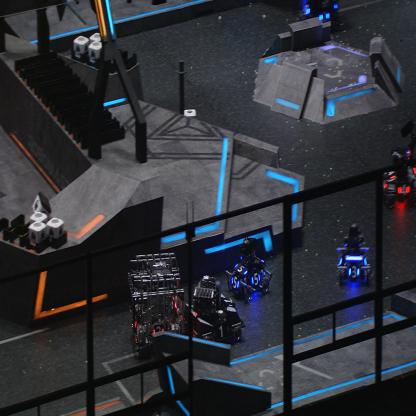car: (128, 252, 184, 356), (184, 274, 245, 348), (228, 234, 272, 302), (380, 149, 415, 209), (336, 226, 372, 284), (302, 0, 338, 23)
